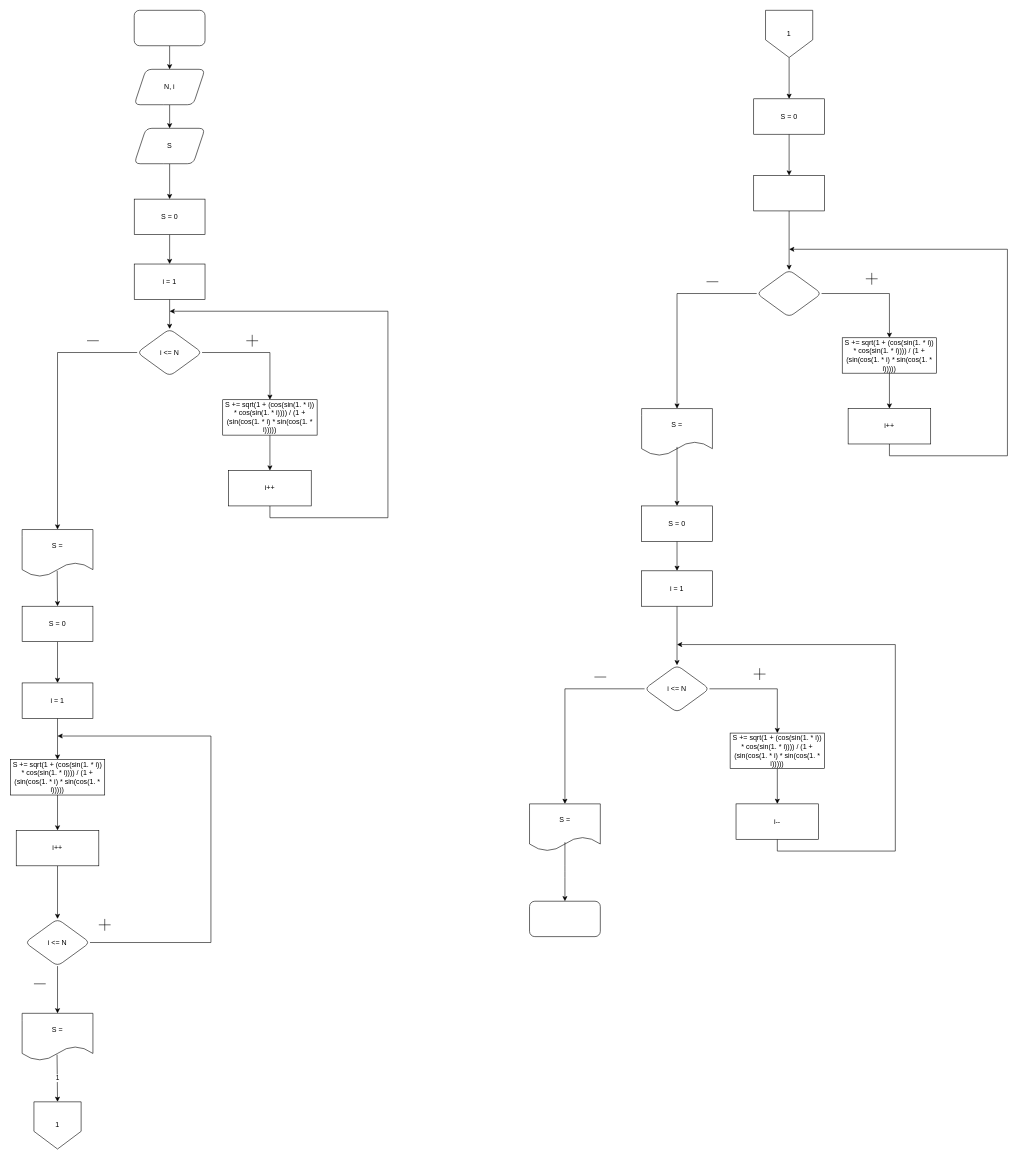
The diagram is 1022 pixels wide and 1159 high, and some of its shapes have lost their labels. The shapes that lost their labels are listed below. From the top down, each one's centre as x and y in pixels, then its label:
the point at 169,28: Початок
the point at 789,193: i = N
the point at 789,293: i <= 1
the point at 564,919: Кінець
